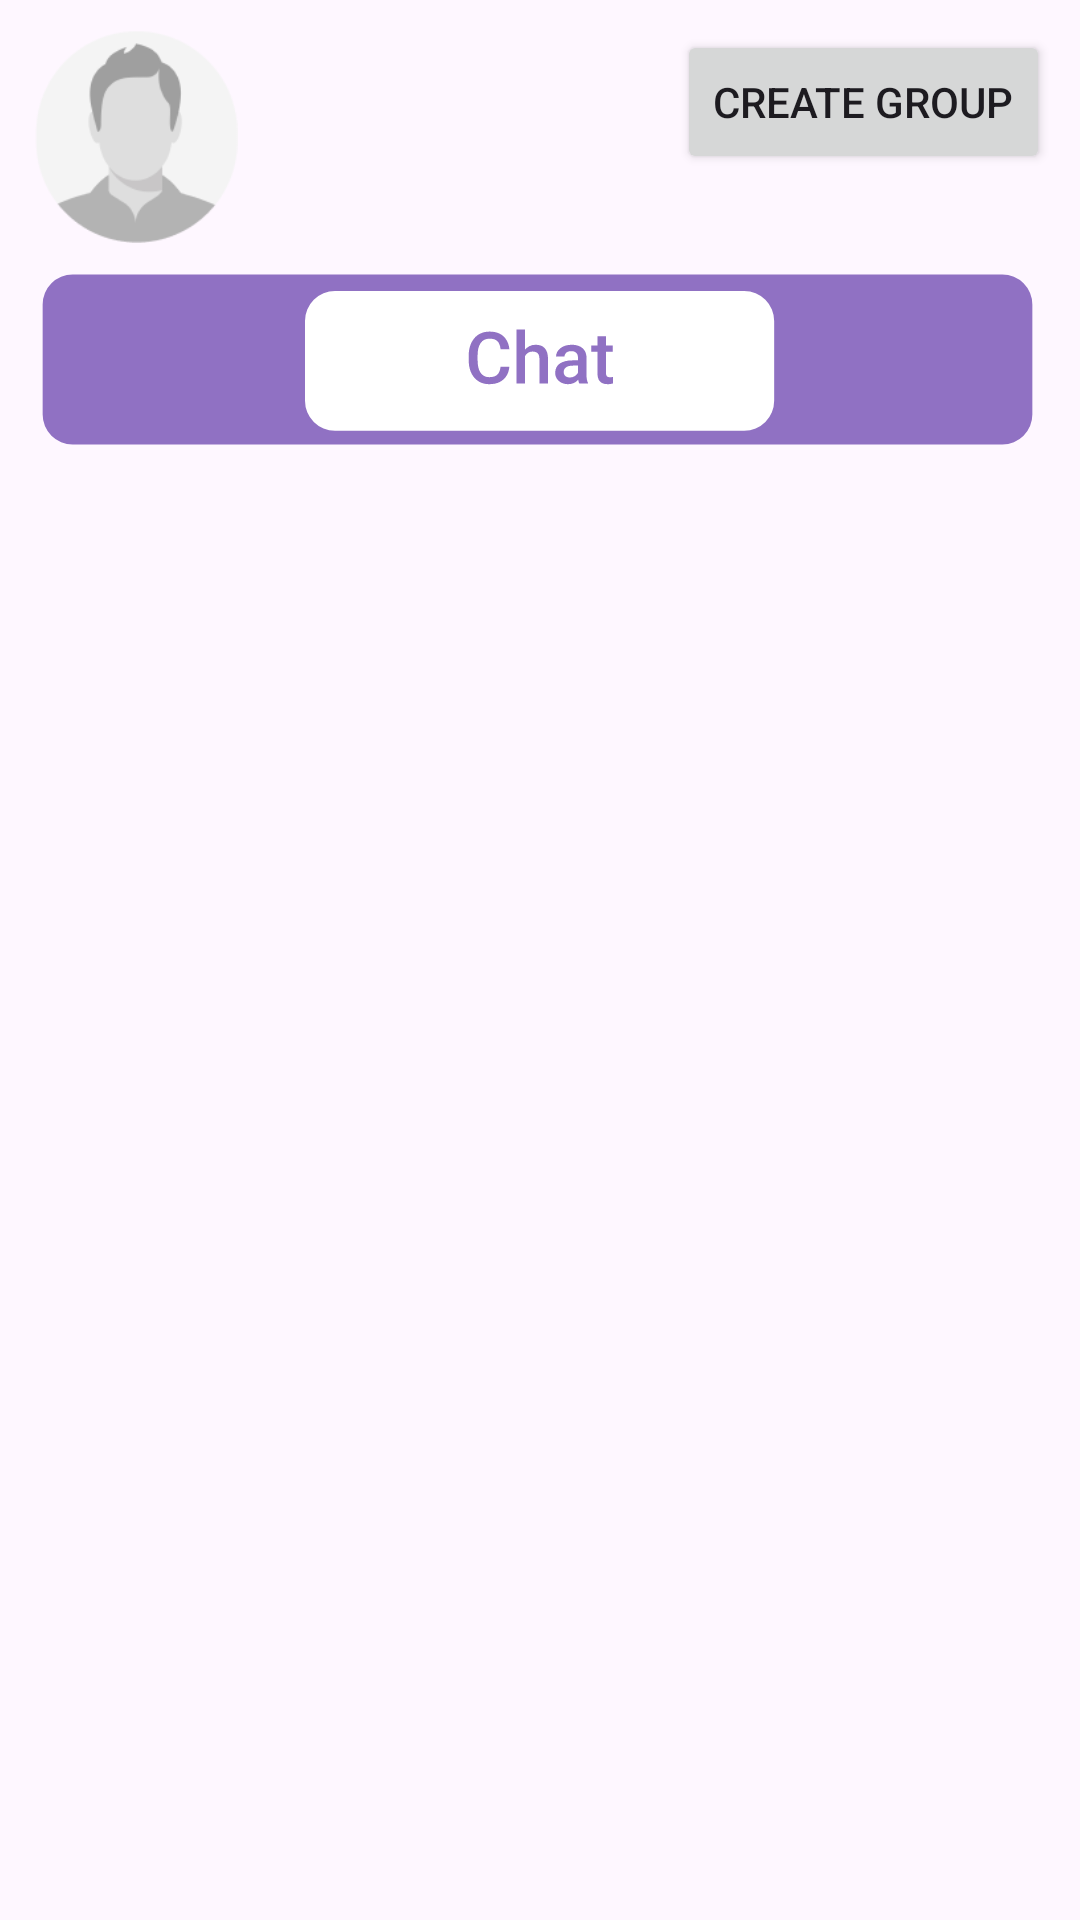

Screen size 1080x1920. Icon name, then its center in pixels as point (x, y):
Main Screen User Image: point (136, 143)
